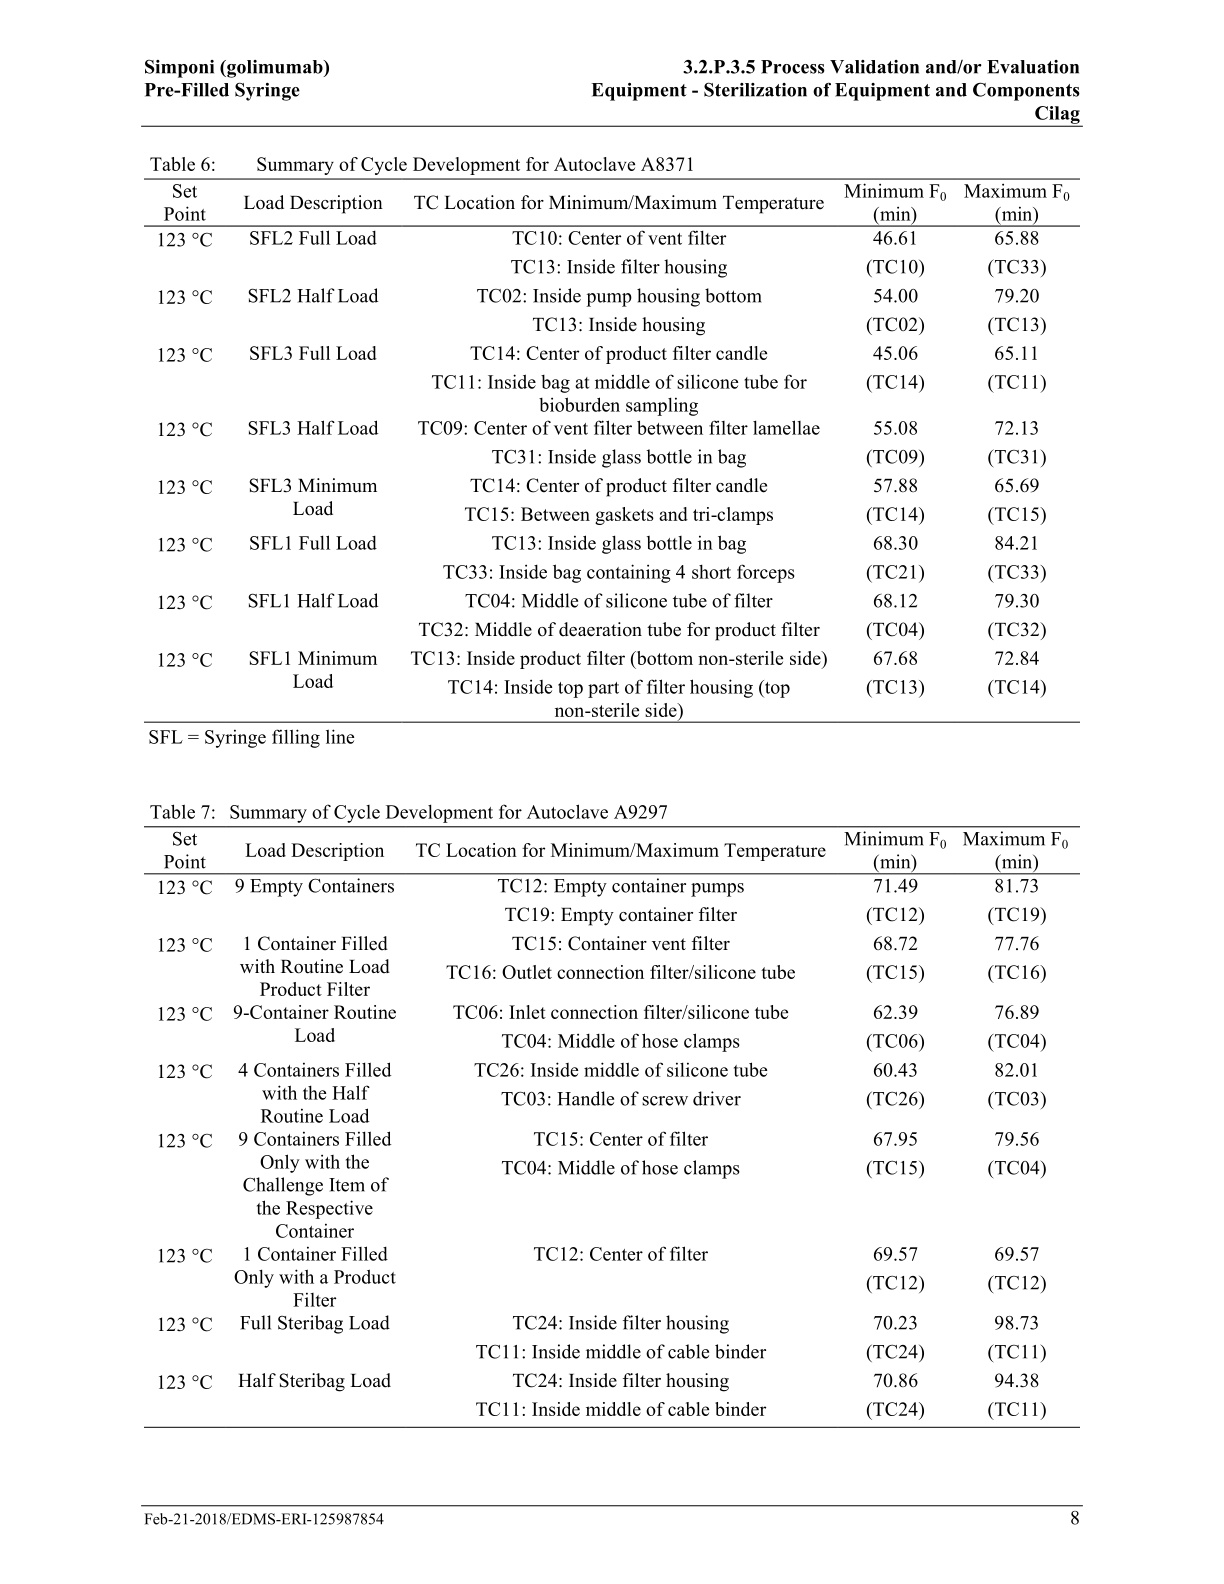partial_lined: (143, 824, 1083, 1428), (143, 177, 1083, 725)
